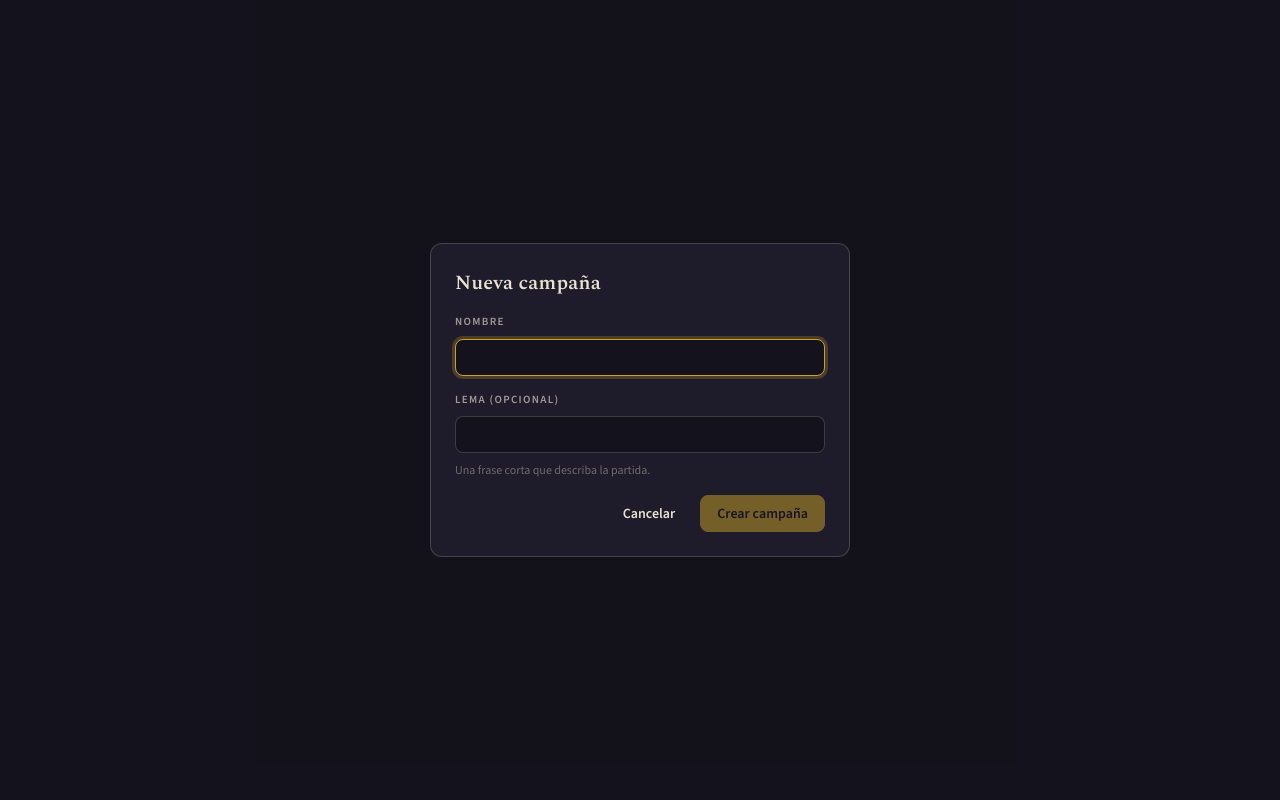
CreateCampaignModal › shows an error message if createCampaign rejects
Type "Nueva Aventura" into the field labelled "Nombre".
click(640, 357); type("Nueva Aventura")  # box 455,338 -> 825,376
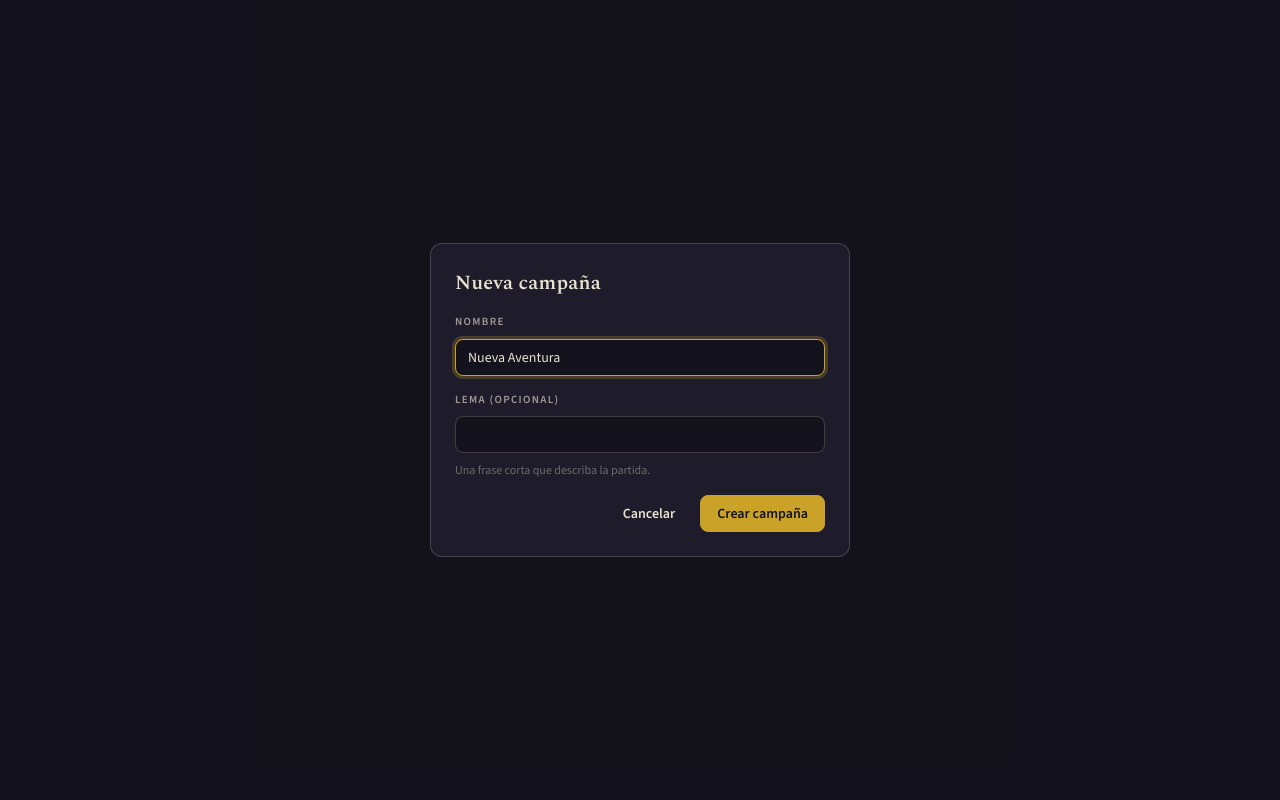
Click the button "Crear campaña".
click(763, 514)  # box 700,495 -> 825,532
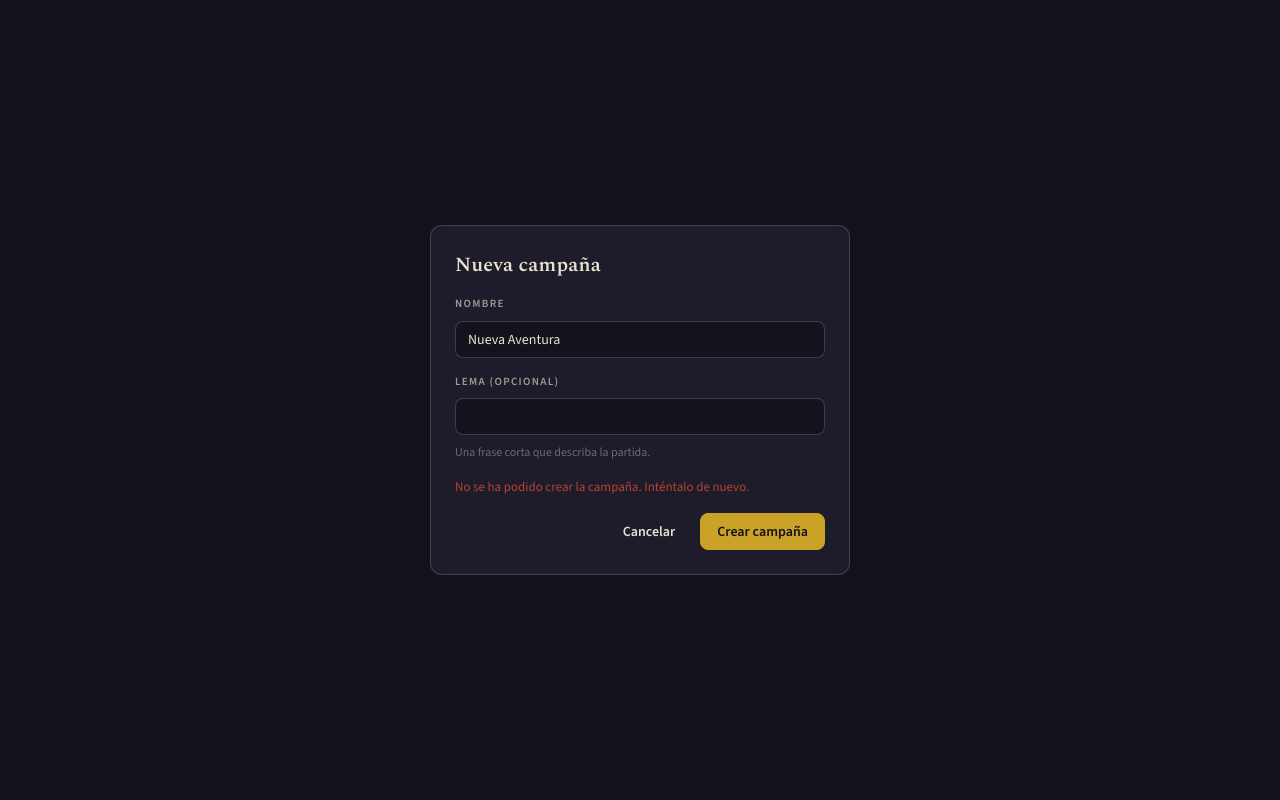
Check: the text "No se ha podido crear la campaña. Inténtalo de nuevo." is shown, box 455,478 -> 749,495
